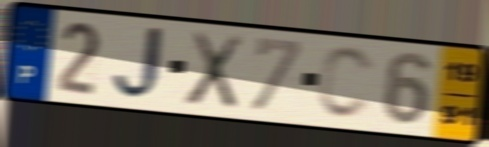2: (54, 20, 103, 99)
6: (381, 50, 435, 128)
7: (251, 34, 304, 115)
C: (314, 44, 377, 123)
J: (110, 24, 173, 104)
X: (182, 29, 247, 112)
